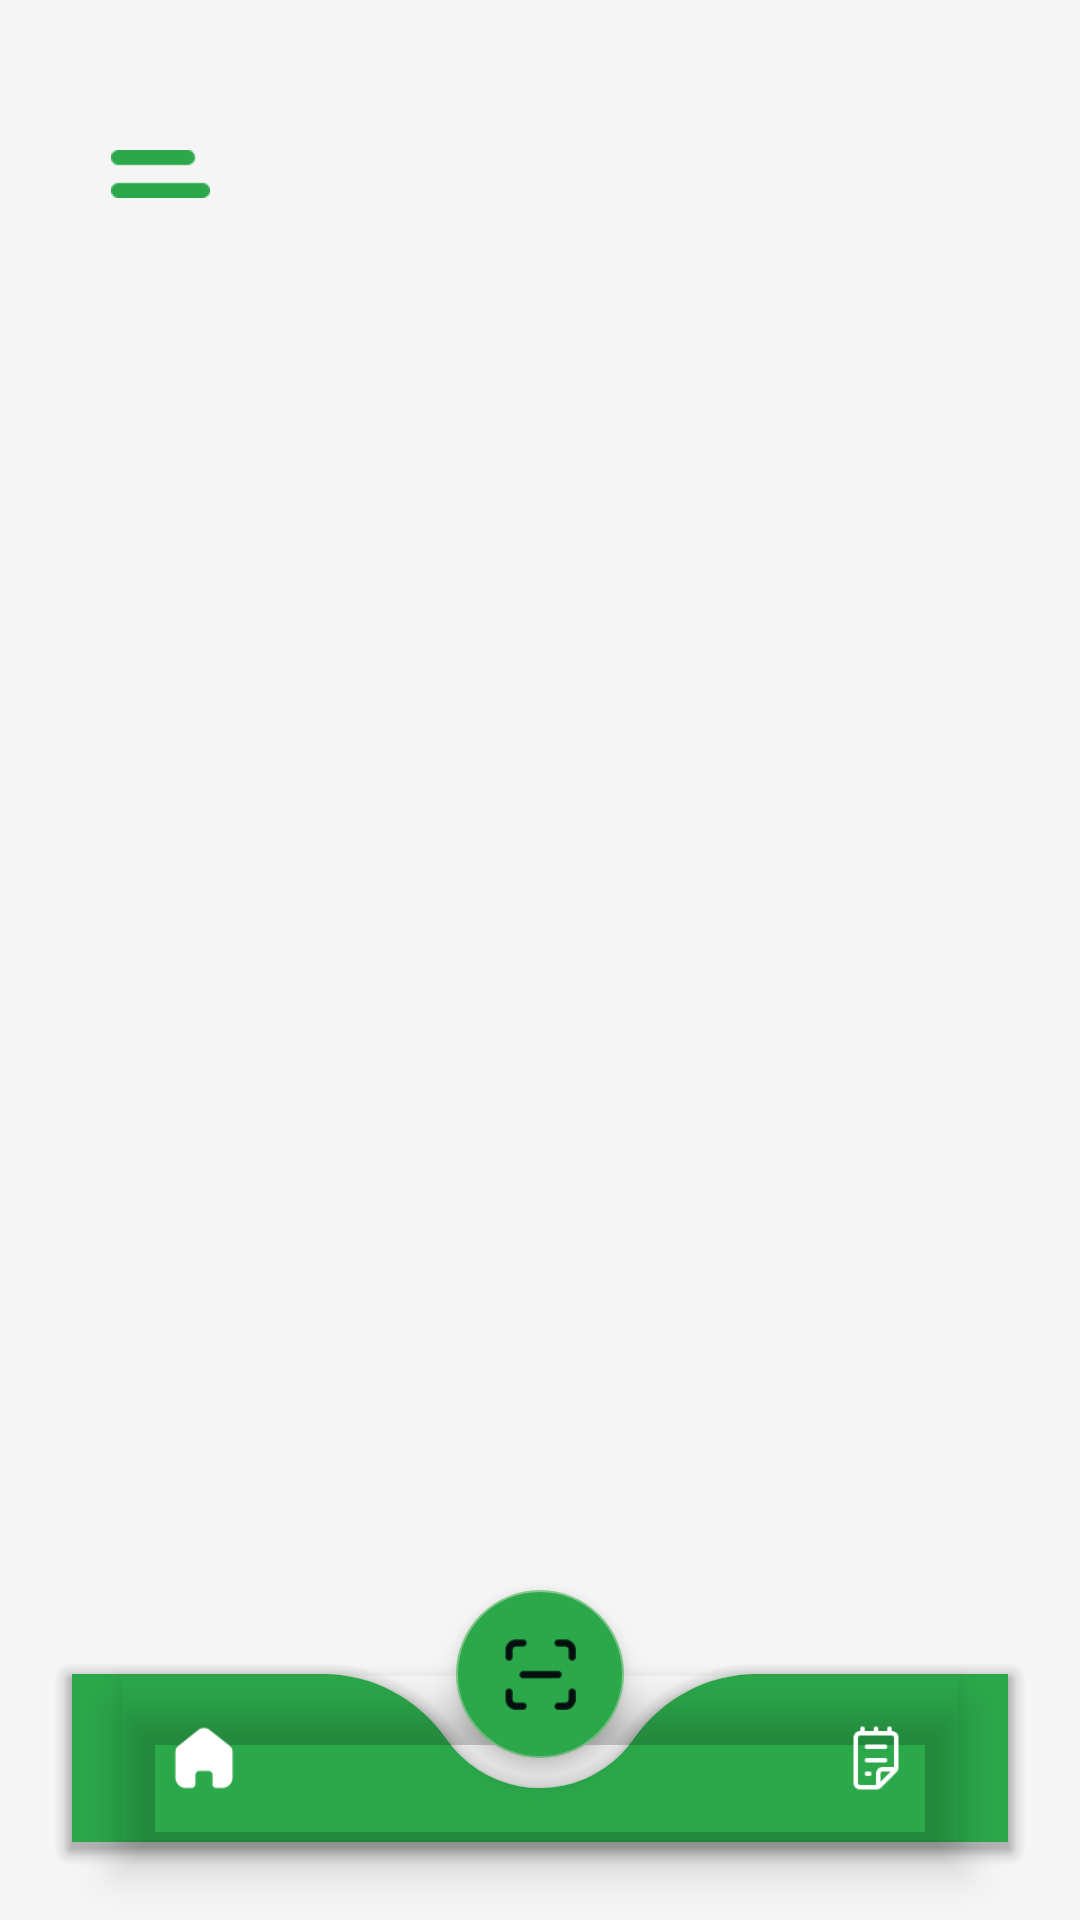

Point at icon controls on the screen. Image size 1080 × 1920, points as point (x, y).
scan fab: point (540, 1674)
sidebar: point (160, 174)
